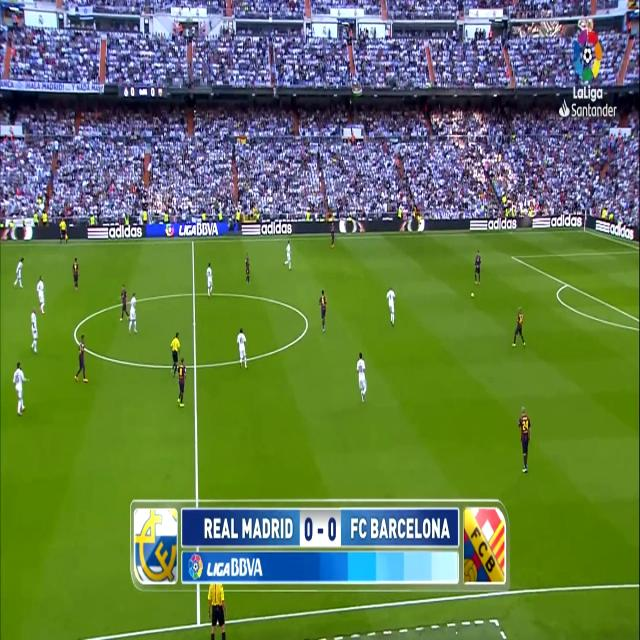corner: (581, 225, 587, 235)
halfcircle_bottom: (190, 353, 200, 378)
halfcircle_top: (190, 284, 198, 302)
midline_bottom_intersection: (191, 486, 203, 508)
midline_top_intersection: (190, 235, 196, 248)
top_arc_area_intersection: (563, 277, 570, 290)
